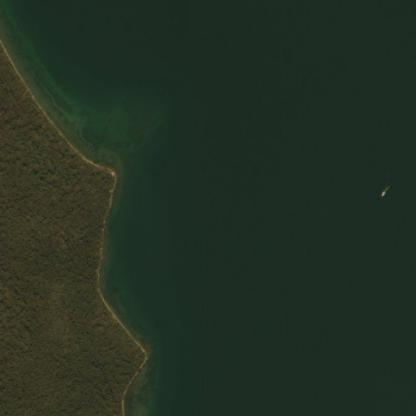ship: (380, 25, 384, 30)
